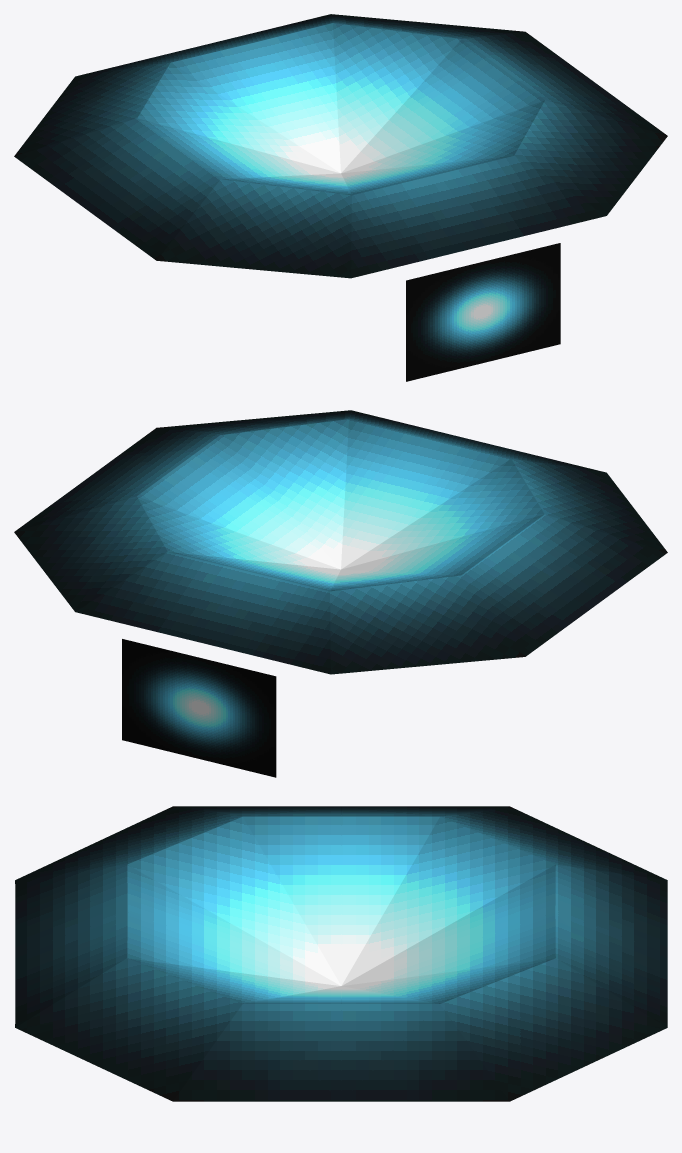
3 renders of one model, top to bottom at view 1: azimuth 30°, elevation 25°; view 2: azimuth 150°, elevation 25°; view 3: azimuth 270°, elevation 25°, orthographic. The views are drawn at different scales.
Parts seen in each view (by area): view 1: 01; view 2: 01; view 3: 01.
Boxes of the visible parts, <box> form: 01: <box>14,14,667,381</box>; 01: <box>14,410,667,777</box>; 01: <box>15,806,667,1101</box>.
Size of the model in its own units: 1.32 by 0.3784 by 1.24.
Materials: 1 (1 with a texture image).
